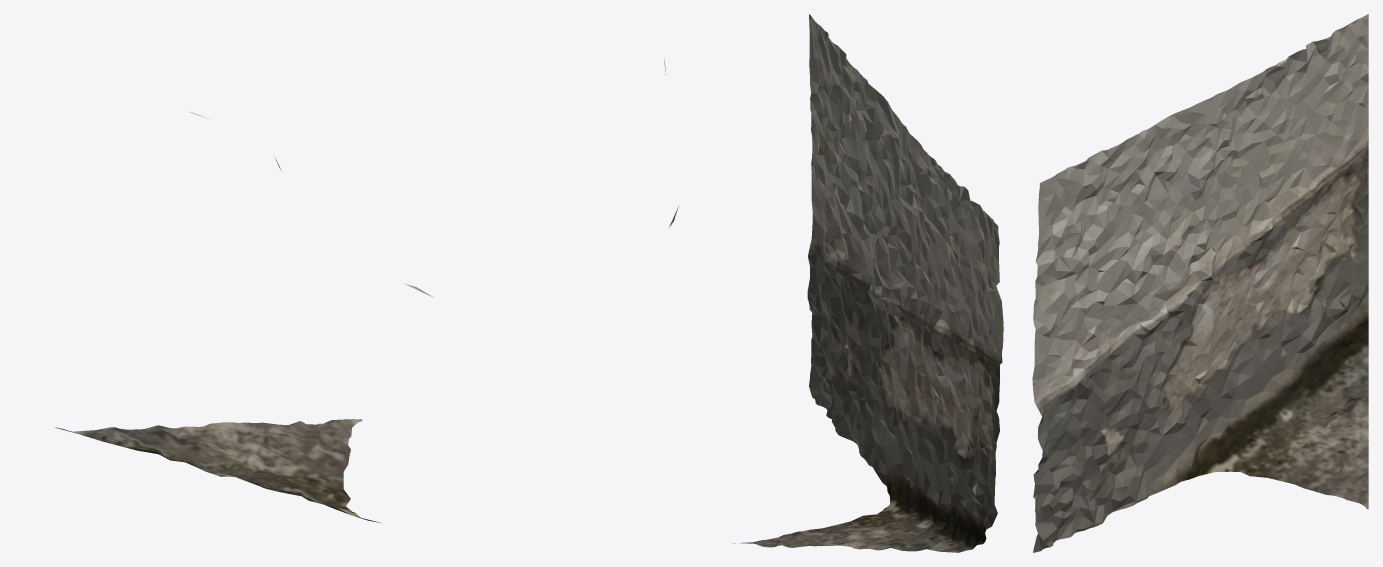
The picture shows the model from 3 angles, left to right: view 1: azimuth 30°, elevation 25°; view 2: azimuth 150°, elevation 25°; view 3: azimuth 270°, elevation 25°; orthographic projection. The views are drawn at different scales.
Size of the model in its own units: 0.8362 by 0.8374 by 0.6904.
3 materials, 3 textured.
